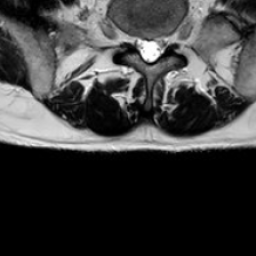CCS_normal: (144, 25, 154, 75)
LFS_normal: (165, 21, 174, 54)
LLS_normal: (154, 27, 165, 67)
RFS_normal: (124, 21, 135, 54)
RLS_normal: (135, 25, 144, 67)
